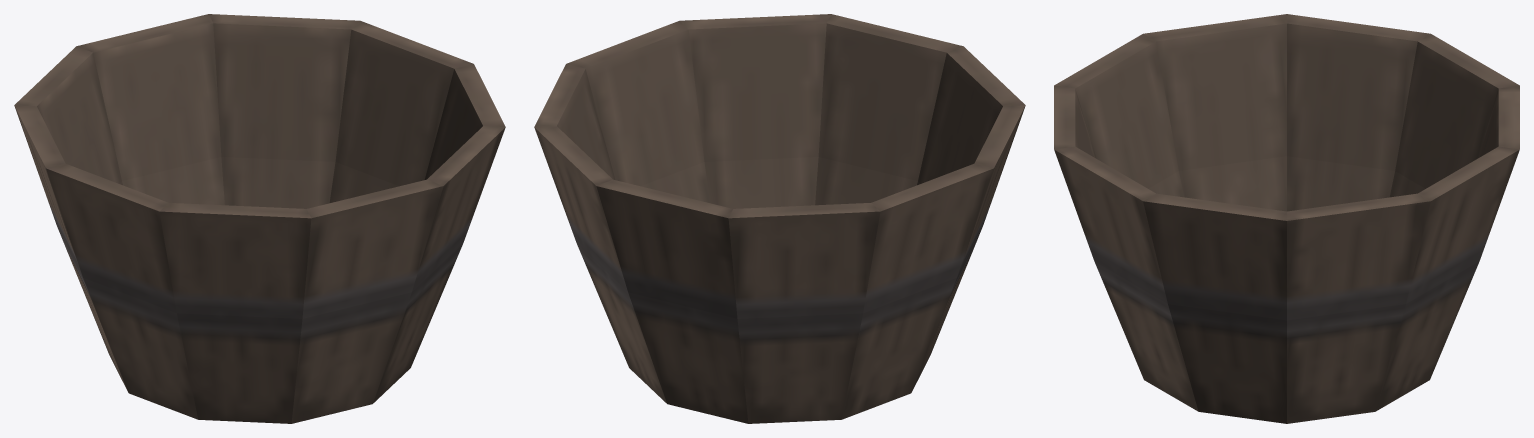
The model's file is woodenBasin.fbx.
The picture shows the model from 3 angles, left to right: view 1: azimuth 30°, elevation 25°; view 2: azimuth 150°, elevation 25°; view 3: azimuth 270°, elevation 25°; orthographic projection.
Visible parts, largest first — view 1: pSphere11; view 2: pSphere11; view 3: pSphere11.
Boxes of the visible parts, x1,y1,x2,y2 form: pSphere11: (14, 14, 505, 423); pSphere11: (534, 14, 1025, 423); pSphere11: (1054, 14, 1519, 423).
Size of the model in its own units: 241 by 132 by 229.
